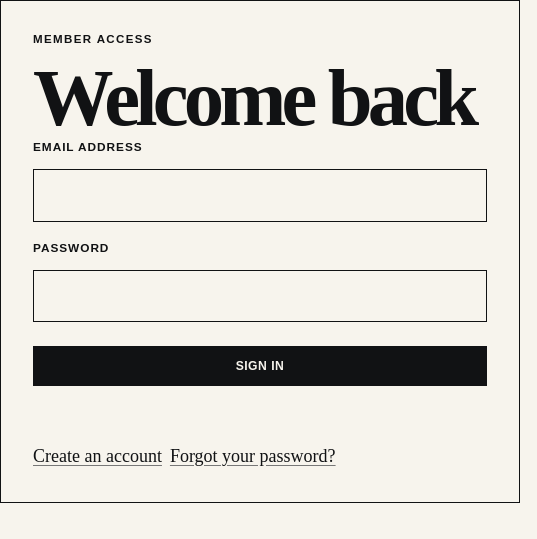
Test case: AuthForm › uses the session login client and announces success
Type "editor@example.com" into the field labelled "Email address".
click(260, 196); type("editor@example.com")  # box x1=33 y1=169 x2=487 y2=222
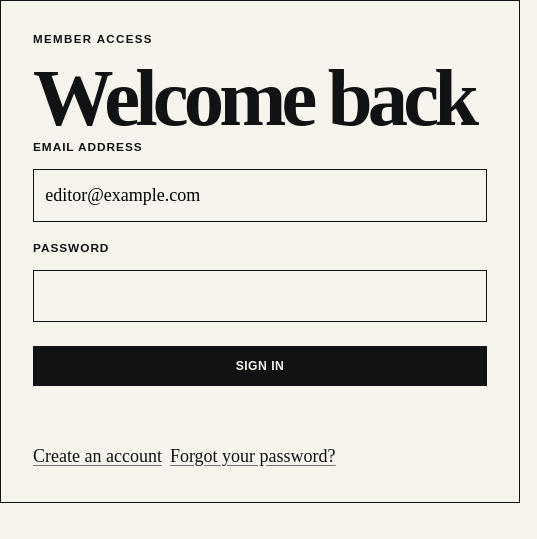
Type "a-secure-password" into the password field labelled "Password".
click(260, 296); type("a-secure-password")  # box x1=33 y1=270 x2=487 y2=322
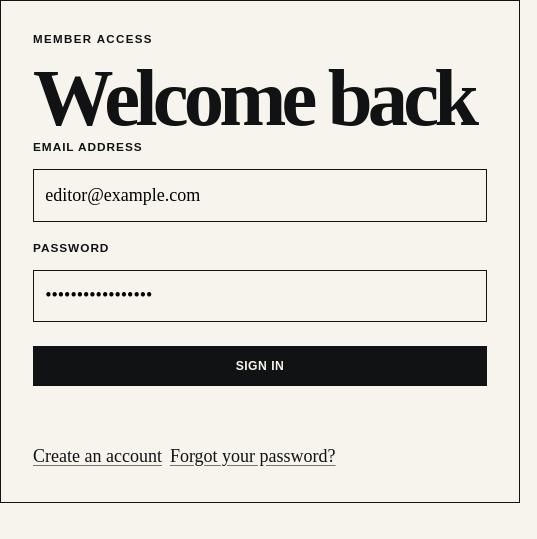
Click the button "Sign in".
click(260, 366)  # box x1=33 y1=346 x2=487 y2=386
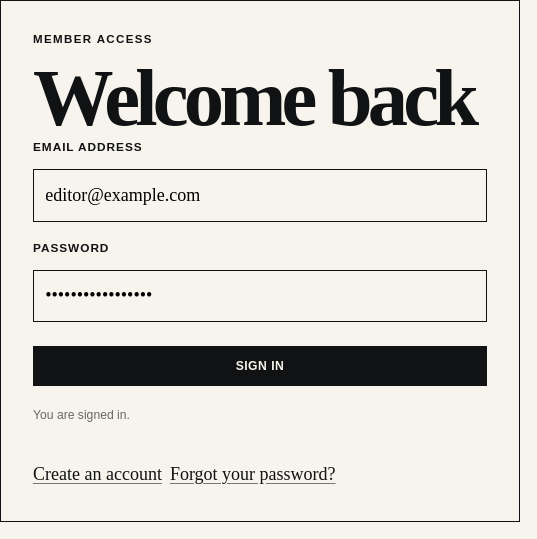
Expected: the message reads "You are signed in.", x1=33 y1=408 x2=130 y2=422
